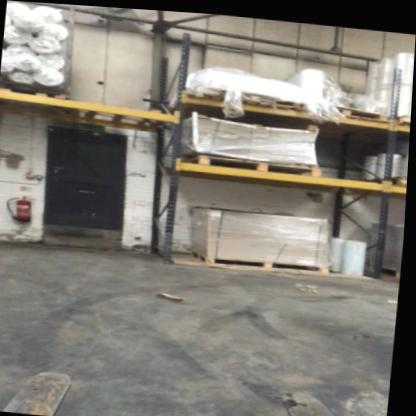vertical_damage: (167, 222, 183, 240)
